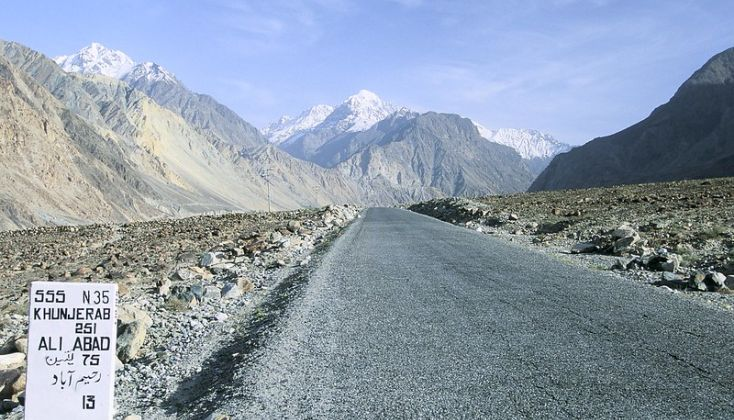straightRoad: (317, 209, 593, 420)
